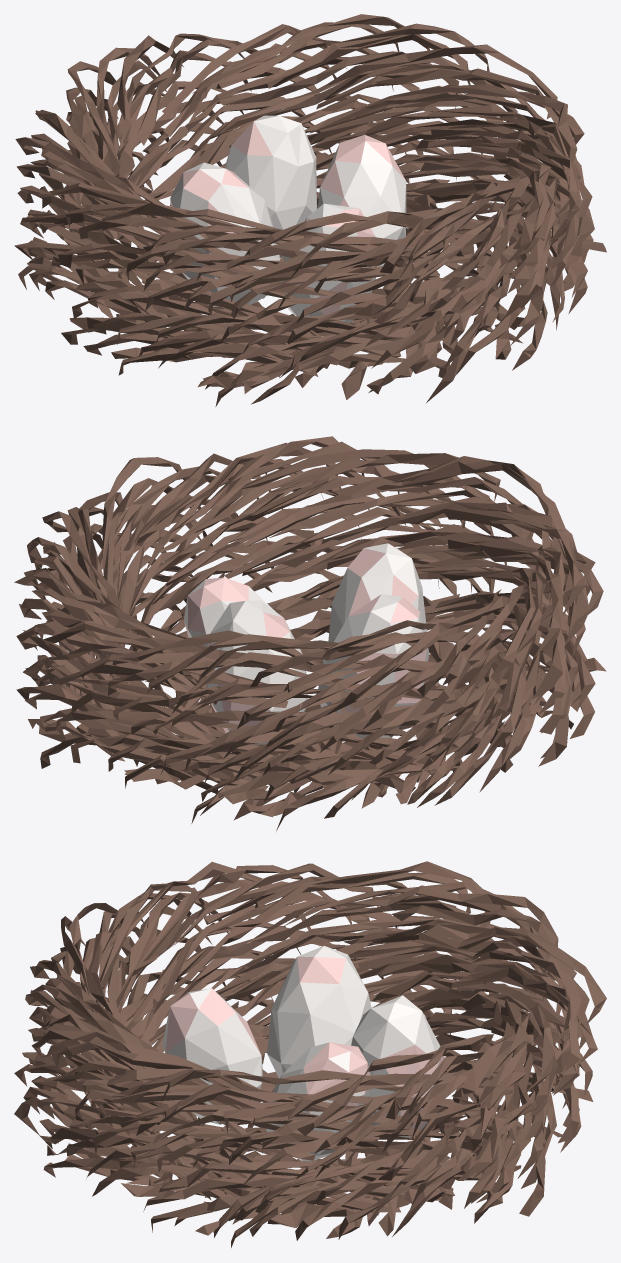
File: Nest_13.fbx
3 views of the same model, one above another, from view 1: azimuth 30°, elevation 25°; view 2: azimuth 150°, elevation 25°; view 3: azimuth 270°, elevation 25° (orthographic).
Visible parts, largest first — view 1: Nest_13_LOD0; view 2: Nest_13_LOD0; view 3: Nest_13_LOD0.
Boxes of the visible parts, bbox=[...] form: Nest_13_LOD0: bbox=[14, 14, 606, 406]; Nest_13_LOD0: bbox=[14, 436, 606, 831]; Nest_13_LOD0: bbox=[14, 861, 606, 1247].
Size of what is drawn, in the model's own units: 57.85 by 23.58 by 58.95.
